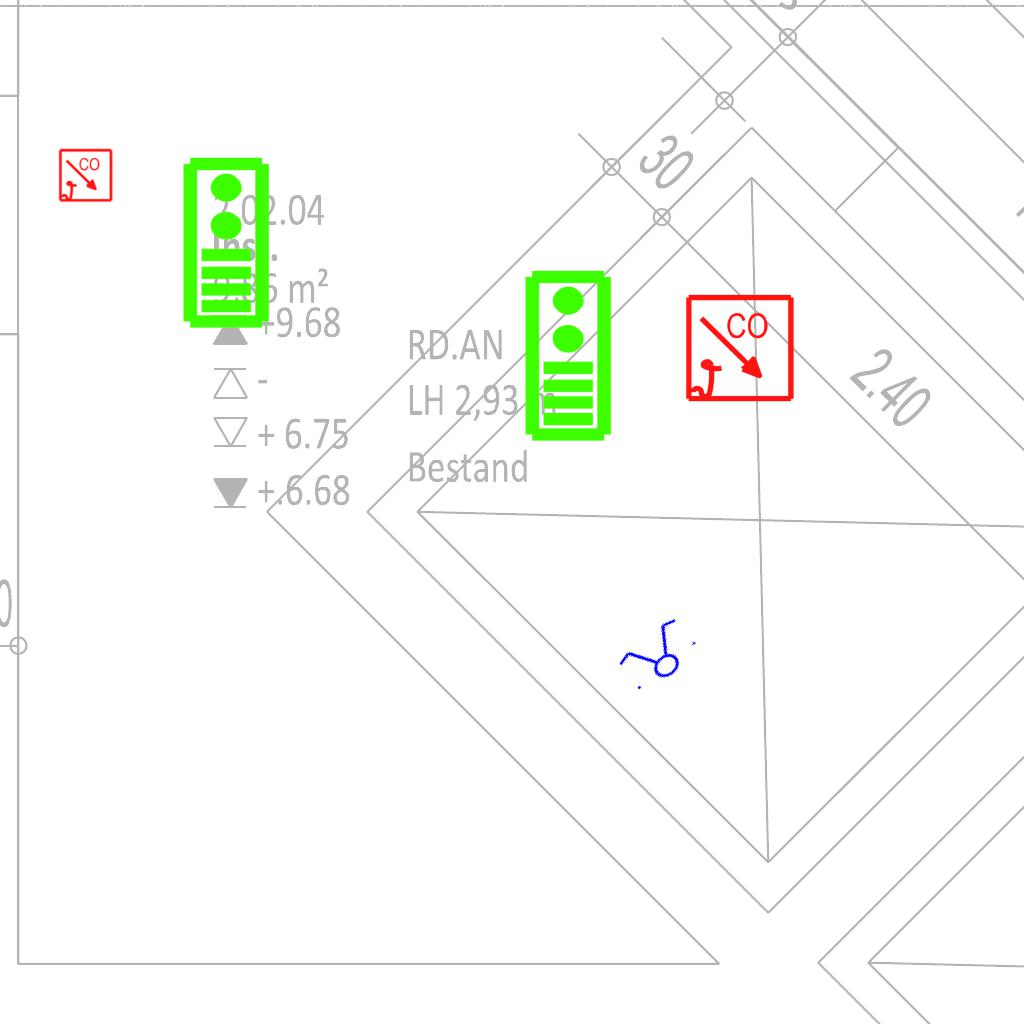Gegensprechanlage_mit_Video: (519, 267, 614, 443), (177, 154, 272, 330)
ROA_Rauchmelder_optisch_mit_Signalgeber_(Sockelsirene): (684, 293, 797, 406), (58, 148, 114, 204)
Serienschalter: (610, 610, 706, 702)
